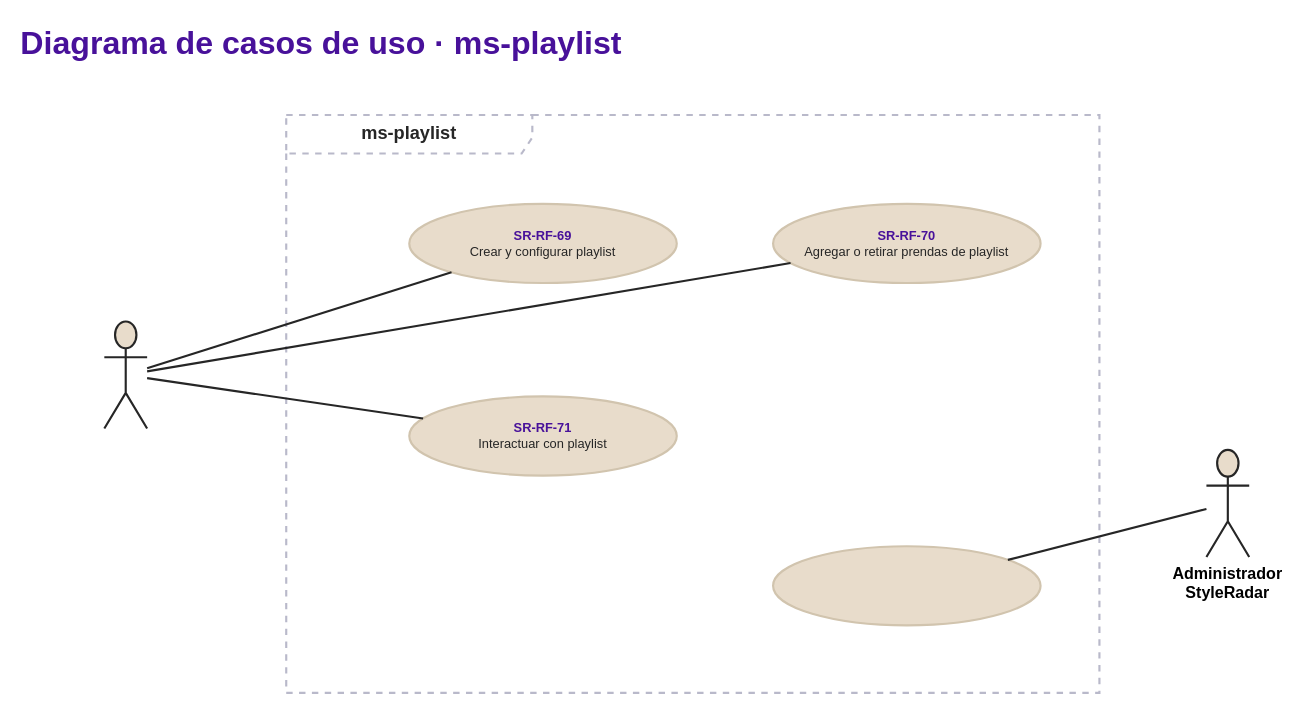
This 1300x712 diagram has some shape labels left out. The centre of each missing label's shape, as x and y in pixels:
"SR-RF-72 Destacar playlists populares" goes at (906,585).
"Usuario comprador" goes at (125,374).
